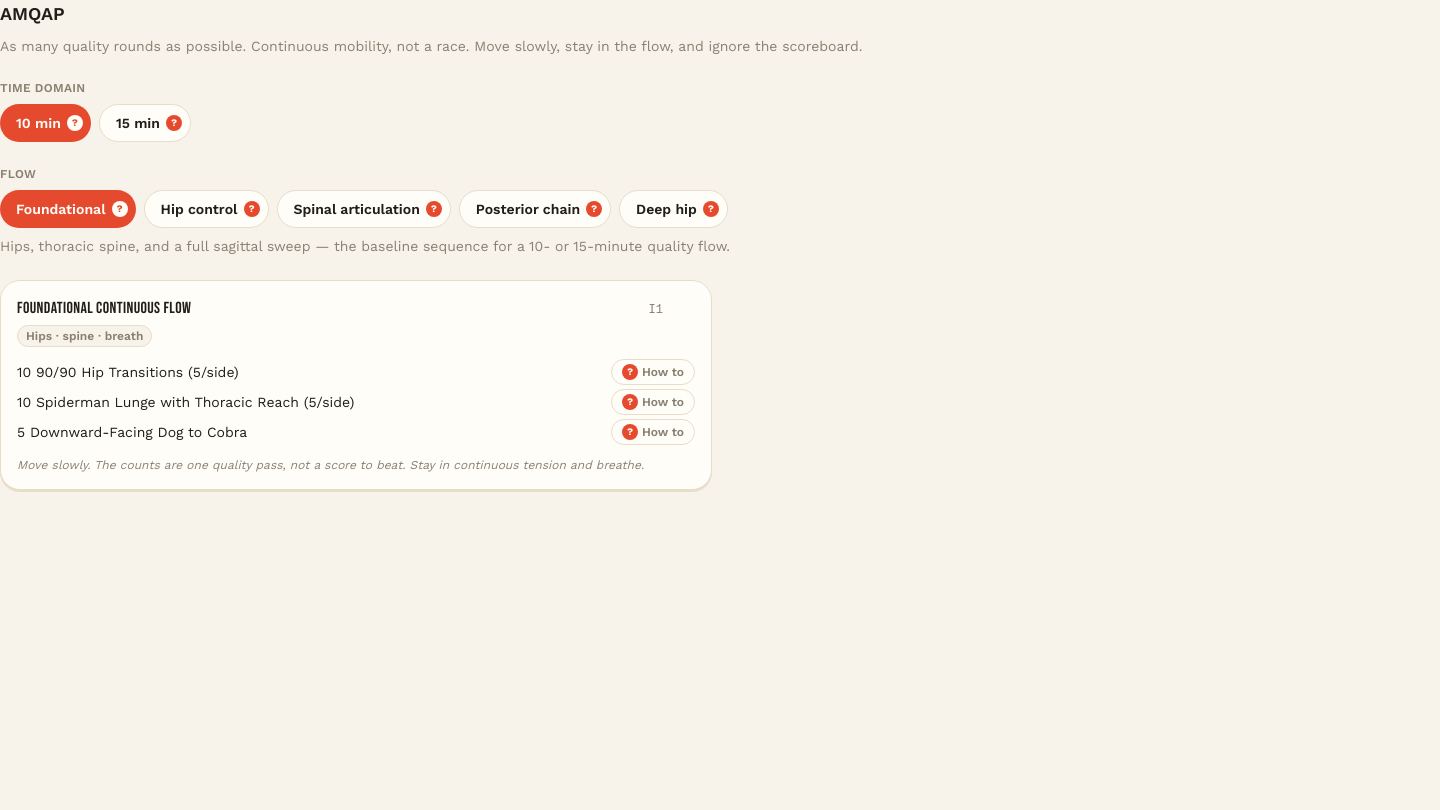
Test: AmqapFlowPicker › opens domain guidance from the chip ?
Click the button named "What's the 10 min quality flow?": (75, 123) [67, 115, 83, 131]
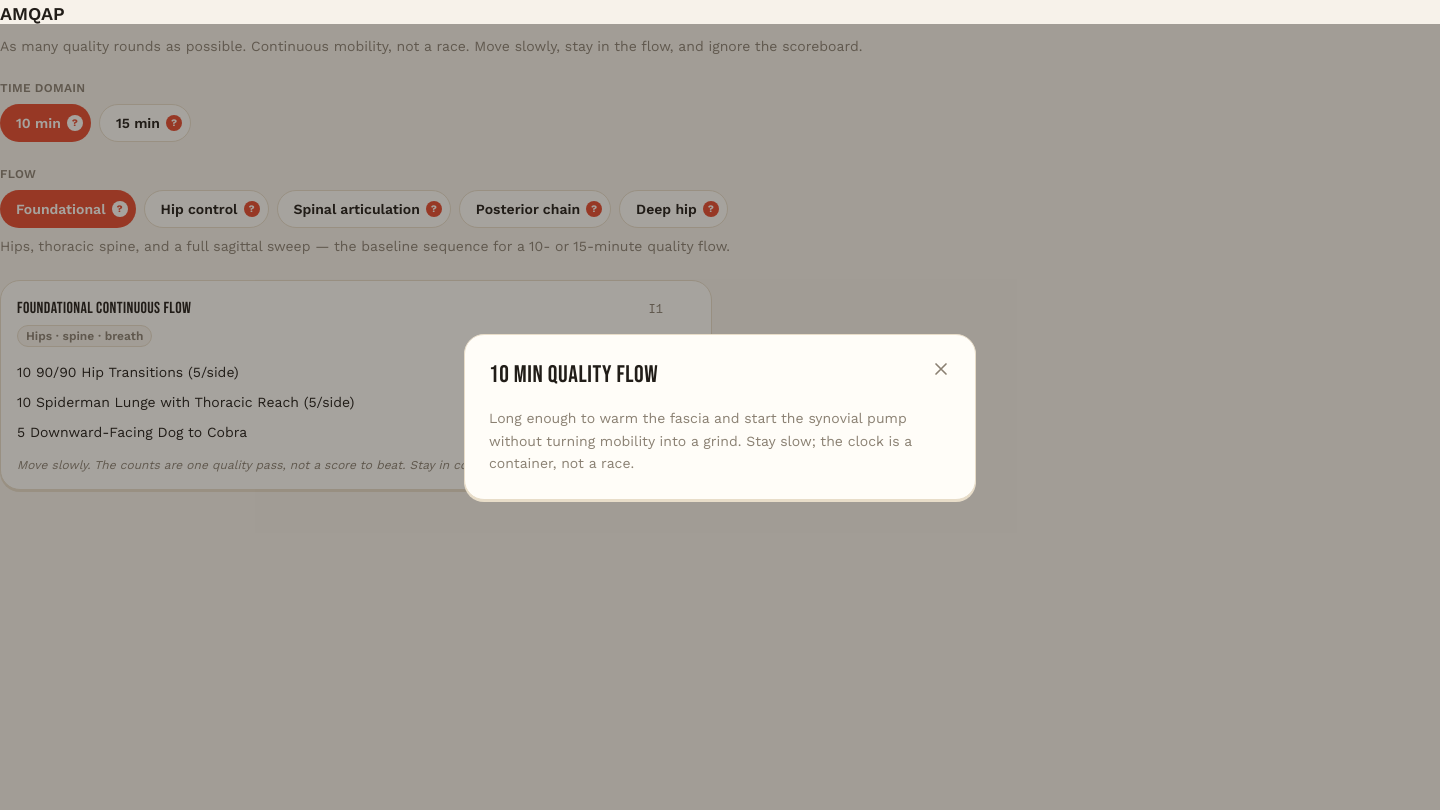
Result: the dialog is shown
Result: the heading "10 min quality flow" is shown at [489, 359, 658, 391]
Result: the text "synovial pump" is shown at [489, 410, 912, 471]
